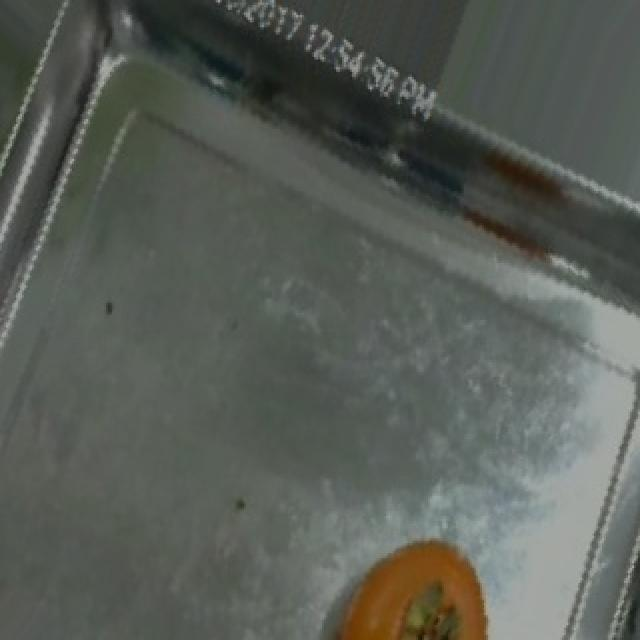Fruit: (316, 526, 508, 640)
